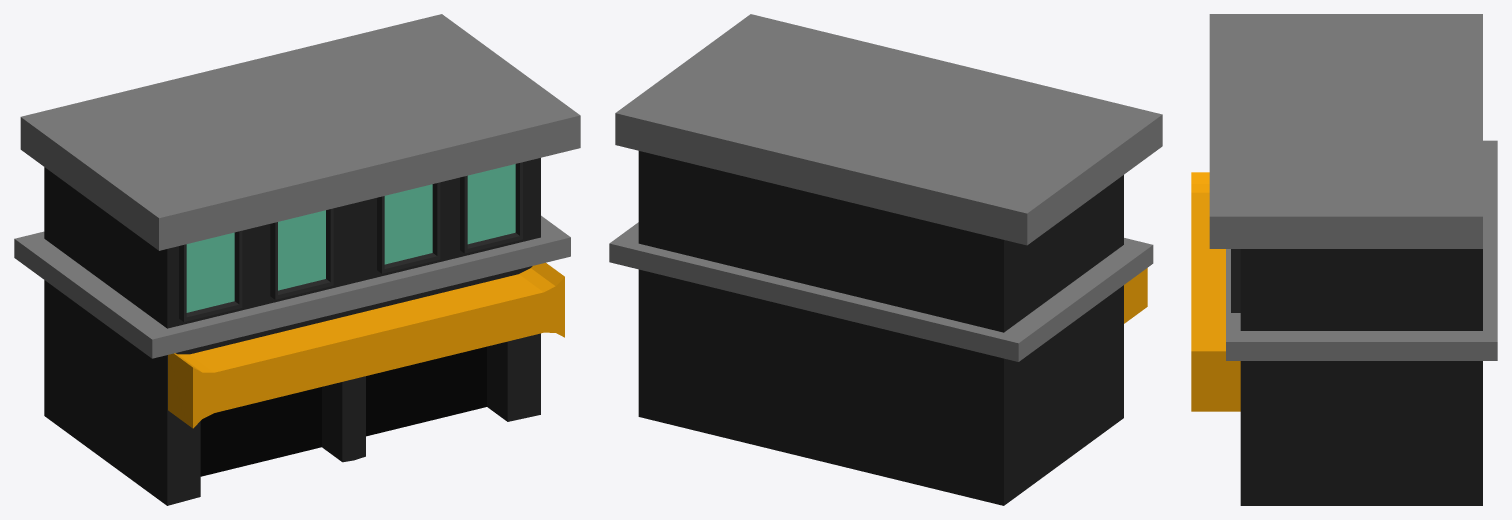
File: PredioGenericoEscalavelCinzaEscuro.fbx
3 views of the same model, side by side, from view 1: azimuth 30°, elevation 25°; view 2: azimuth 150°, elevation 25°; view 3: azimuth 270°, elevation 25° (orthographic). The views are drawn at different scales.
Parts seen in each view (by area): view 1: LojaGenericaEscalavel; view 2: LojaGenericaEscalavel; view 3: LojaGenericaEscalavel.
Part boxes in pixels (x1,y1,x2,y2): LojaGenericaEscalavel: (14, 14, 580, 505); LojaGenericaEscalavel: (609, 14, 1162, 505); LojaGenericaEscalavel: (1191, 14, 1497, 505).
Bounding box in the file's own units: 1095 × 757 × 699.
Materials: 1 (1 with a texture image).
